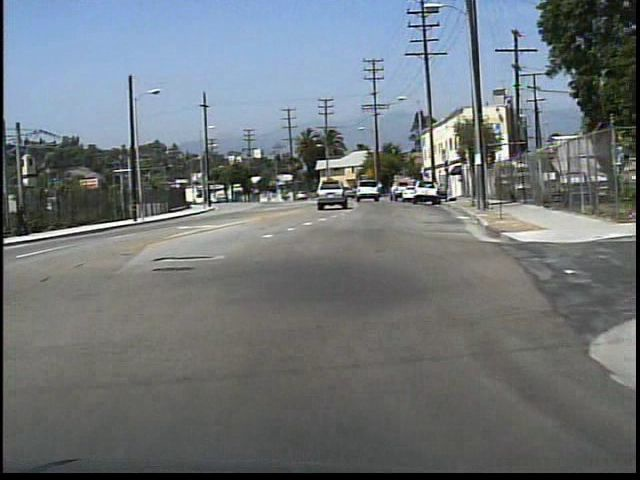person: (18, 200, 35, 239)
